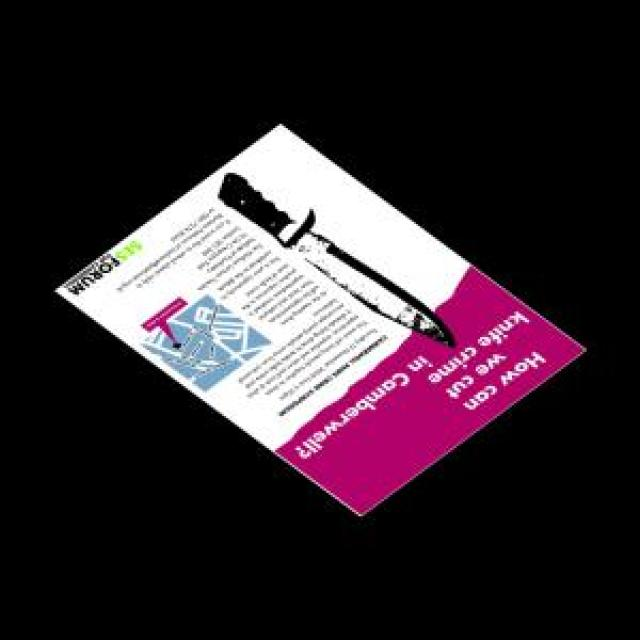knife: (213, 166, 462, 349)
